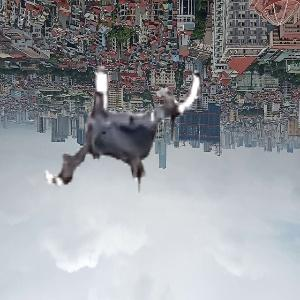drone: (33, 41, 214, 222)
